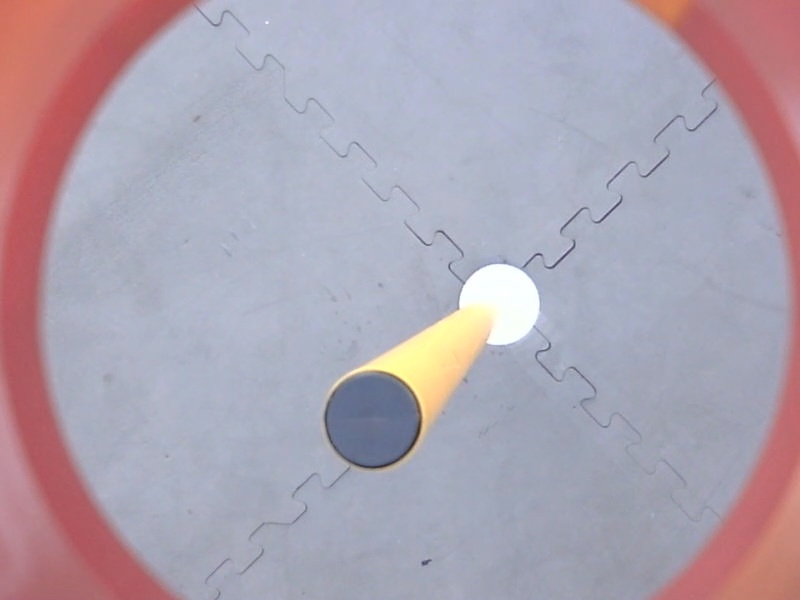tip: (312, 364, 432, 478)
